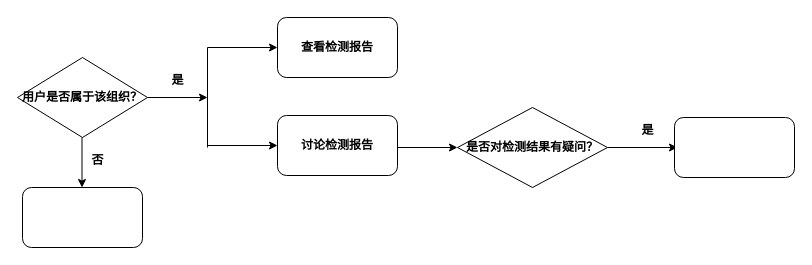
Some shapes in this 812 by 265 pixel diagram are drawn without their labels. Each missing label, with the centre of its shape:
"提出质疑" goes at (734,147).
"用户申请加入该组织" goes at (82,217).
